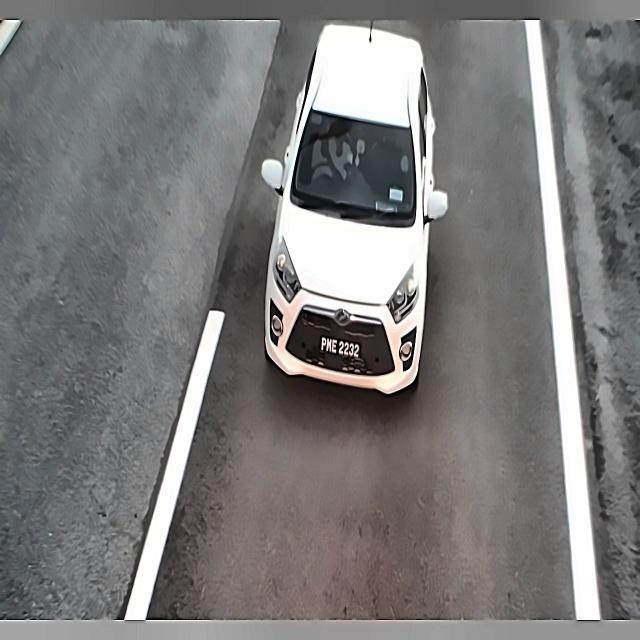car: (314, 331, 365, 364)
